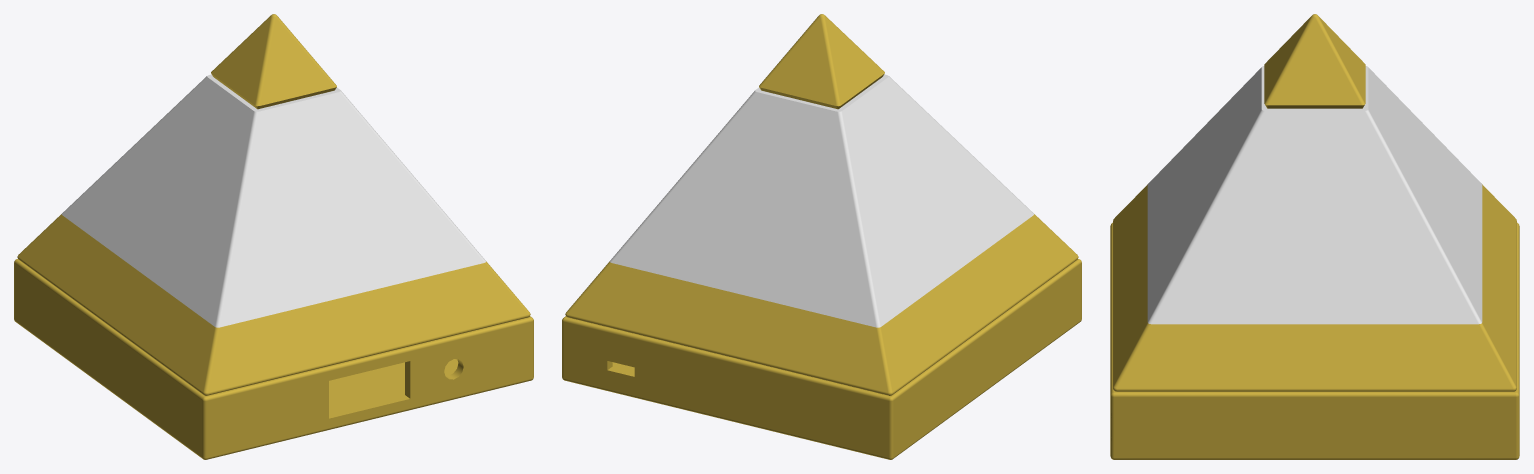
Rendered from Violin-v1.glb.
3 renders of one model, left to right at view 1: azimuth 30°, elevation 25°; view 2: azimuth 150°, elevation 25°; view 3: azimuth 270°, elevation 25°, orthographic. The views are drawn at different scales.
Parts seen in each view (by area): view 1: Low-frequency magnetic_wire-Up-Cover.004, Low-frequency magnetic_wire-Dw-Cover.002, Low-frequency magnetic_wire-Up-Cover.002, Low-frequency magnetic_wire-Up-Cover-Tip.002; view 2: Low-frequency magnetic_wire-Up-Cover.004, Low-frequency magnetic_wire-Dw-Cover.002, Low-frequency magnetic_wire-Up-Cover.002, Low-frequency magnetic_wire-Up-Cover-Tip.002; view 3: Low-frequency magnetic_wire-Up-Cover.004, Low-frequency magnetic_wire-Up-Cover.002, Low-frequency magnetic_wire-Dw-Cover.002, Low-frequency magnetic_wire-Up-Cover-Tip.002.
Boxes of the visible parts, <box> form: Low-frequency magnetic_wire-Up-Cover.004: <box>61,74,486,327</box>; Low-frequency magnetic_wire-Dw-Cover.002: <box>14,259,533,459</box>; Low-frequency magnetic_wire-Up-Cover.002: <box>17,214,530,395</box>; Low-frequency magnetic_wire-Up-Cover-Tip.002: <box>211,14,336,109</box>; Low-frequency magnetic_wire-Up-Cover.004: <box>609,74,1034,327</box>; Low-frequency magnetic_wire-Dw-Cover.002: <box>562,259,1081,459</box>; Low-frequency magnetic_wire-Up-Cover.002: <box>565,214,1078,395</box>; Low-frequency magnetic_wire-Up-Cover-Tip.002: <box>759,14,884,109</box>; Low-frequency magnetic_wire-Up-Cover.004: <box>1147,66,1482,324</box>; Low-frequency magnetic_wire-Up-Cover.002: <box>1113,184,1516,391</box>; Low-frequency magnetic_wire-Dw-Cover.002: <box>1110,222,1519,459</box>; Low-frequency magnetic_wire-Up-Cover-Tip.002: <box>1264,14,1365,108</box>.
Size of the model in its own units: 0.11 by 0.107 by 0.11.
